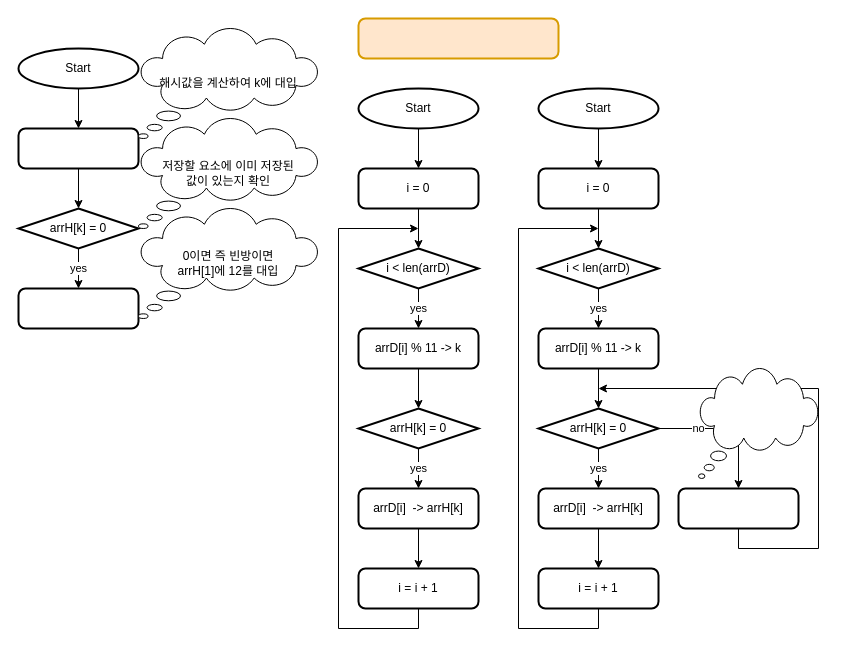
The diagram is 844 pixels wide and 654 high, and some of its shapes have lost their labels. Each missing label, with the centre of its shape:
"arrD[0] % 11 -> k" goes at pixel 78 148.
"arrD[0] -> arrH[k]" goes at pixel 78 308.
"Hash Search" goes at pixel 458 38.
"k = k + 1" goes at pixel 738 508.
"k를 하나 증가하여 0인지의 여부를 다시한번 확인한다" goes at pixel 758 423.
